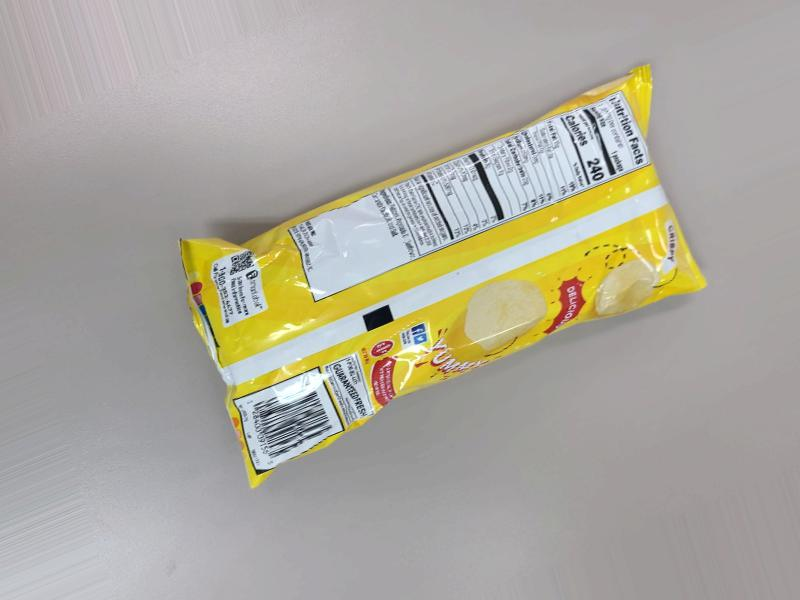lays: (255, 128, 716, 470)
